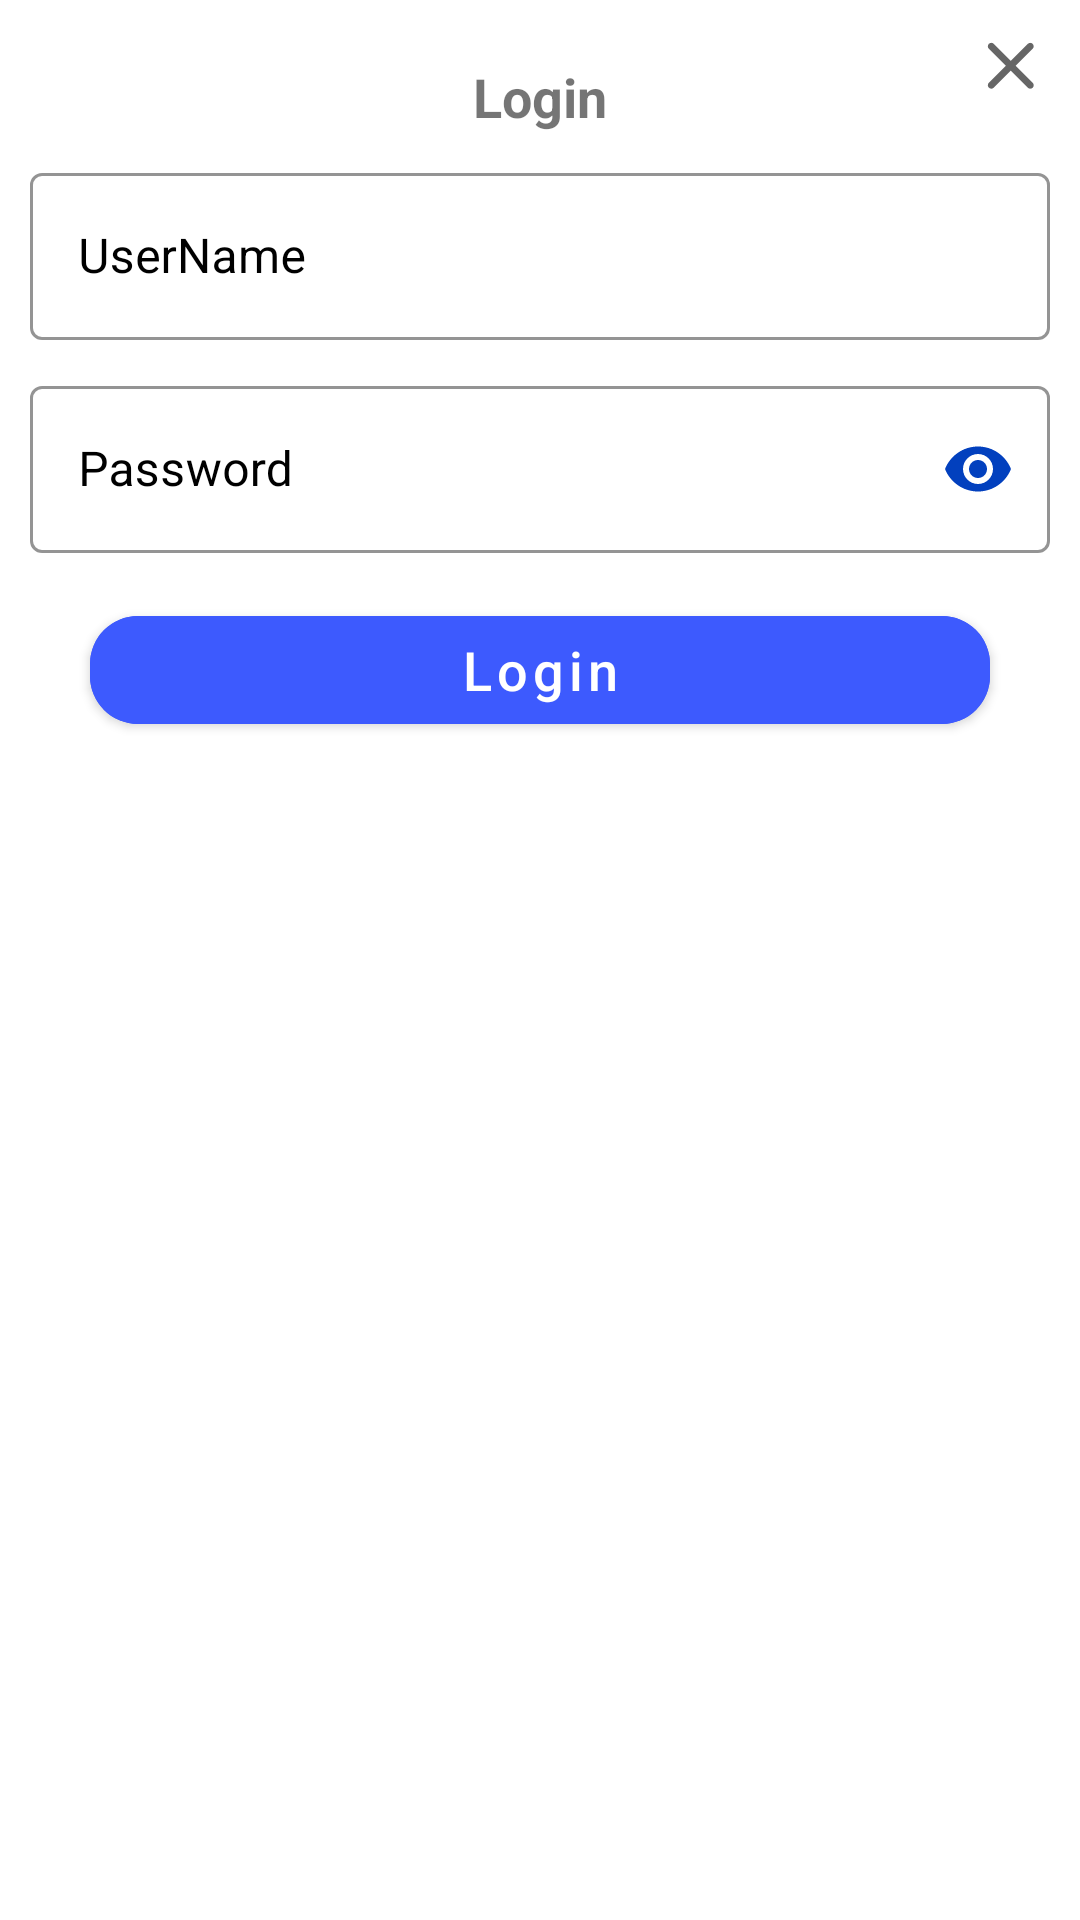

Named icons in this screenshot (1080px×1920px) and their bounding boxes, (x1, y1, x2, y2):
close: (988, 43, 1034, 89)
